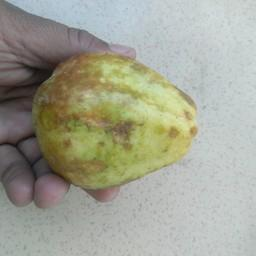Bad_guava: (24, 45, 199, 196)
